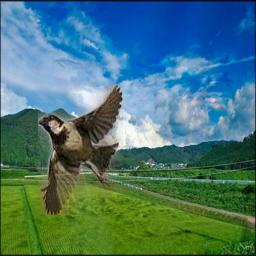Sparrow: (39, 85, 124, 216)
